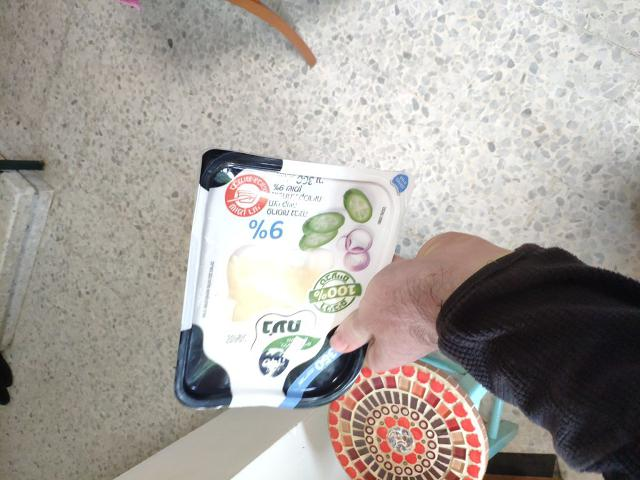cheese: (246, 152, 446, 372)
